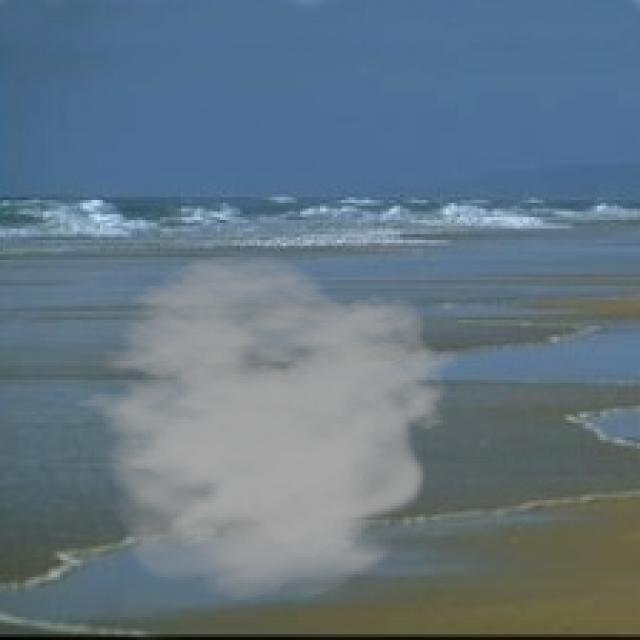smoke: (57, 254, 460, 600)
